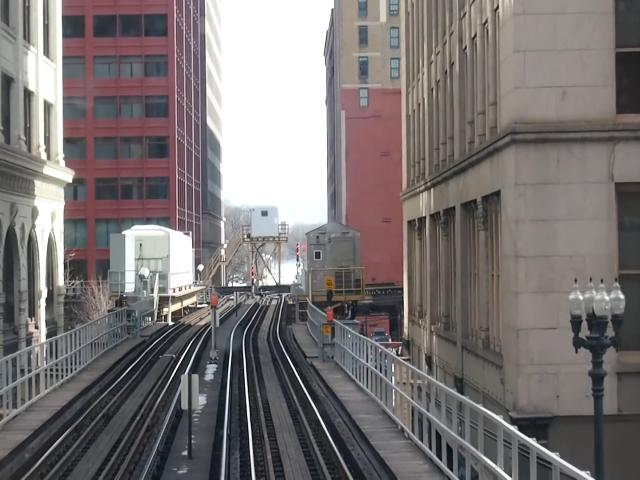signal light: (297, 244, 301, 265), (253, 267, 256, 289)
